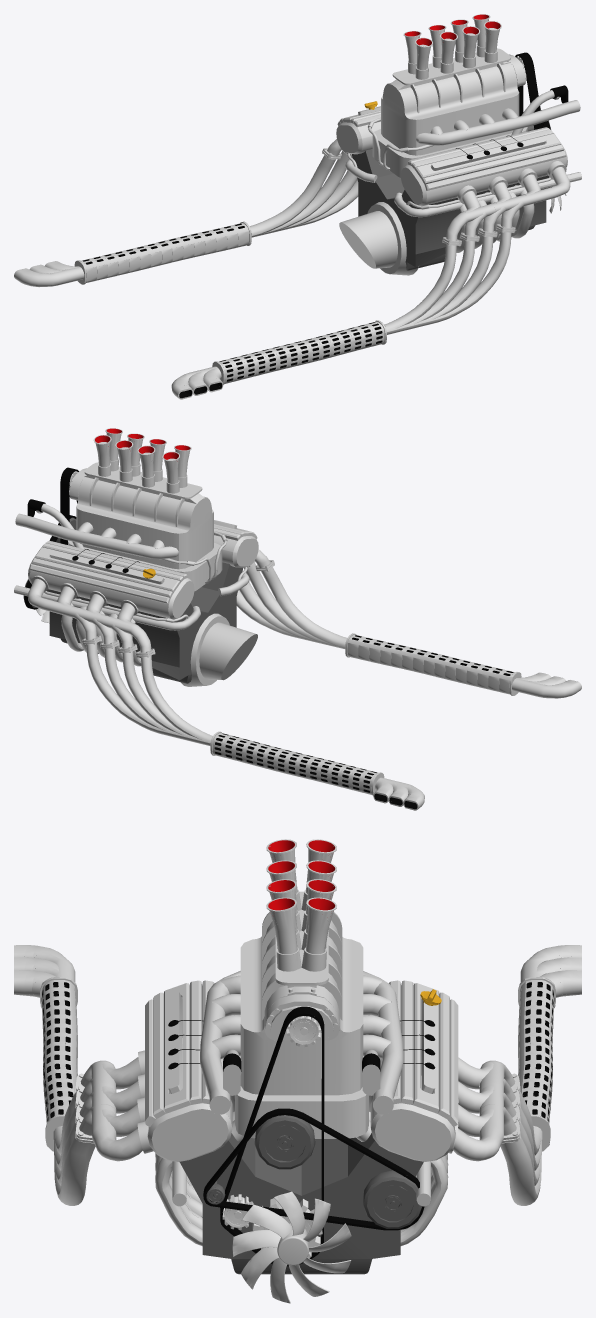
The model's file is eng-v8-57-sb.glb.
3 views of the same model, one above another, from view 1: azimuth 30°, elevation 25°; view 2: azimuth 150°, elevation 25°; view 3: azimuth 270°, elevation 25° (orthographic). The views are drawn at different scales.
Visible parts, largest first — view 1: Cube_Chrome.001_0, Cylinder.003_Chrome.001_0, Cube.001_Chrome.001_0, Cylinder.004_Chrome.001_0, Cube_Material.004_0, Cylinder.004_Material.008_0, Cube.001_Material.003_0, Cube_Material.005_0, Cylinder.008_Chrome.001_0; view 2: Cube_Chrome.001_0, Cylinder.003_Chrome.001_0, Cube.001_Chrome.001_0, Cylinder.004_Chrome.001_0, Cube_Material.004_0, Cylinder.004_Material.008_0, Cube.001_Material.003_0, Cube_Material.005_0, Cylinder.008_Chrome.001_0; view 3: Cube_Chrome.001_0, Cylinder.003_Chrome.001_0, Cube.001_Chrome.001_0, Cube_Material.004_0, Cylinder.004_Chrome.001_0, Fan.004_Chrome.001_0, Cylinder.006_Material.004_0, Cube.001_Material.003_0, Cylinder.004_Material.008_0, Cube_Material.005_0, Gear_Material.007_0, Cube_Material.003_0 (+1 smaller).
Boxes of the visible parts, x1=… form: Cube_Chrome.001_0: x1=336, y1=14, x2=581, y2=252; Cylinder.003_Chrome.001_0: x1=14, y1=139, x2=570, y2=399; Cube.001_Chrome.001_0: x1=339, y1=48, x2=527, y2=275; Cylinder.004_Chrome.001_0: x1=74, y1=221, x2=386, y2=384; Cube_Material.004_0: x1=352, y1=149, x2=549, y2=270; Cylinder.004_Material.008_0: x1=83, y1=223, x2=382, y2=381; Cube.001_Material.003_0: x1=515, y1=52, x2=551, y2=187; Cube_Material.005_0: x1=404, y1=14, x2=500, y2=45; Cylinder.008_Chrome.001_0: x1=322, y1=148, x2=515, y2=246; Cube_Chrome.001_0: x1=14, y1=428, x2=258, y2=666; Cylinder.003_Chrome.001_0: x1=28, y1=549, x2=581, y2=810; Cube.001_Chrome.001_0: x1=68, y1=462, x2=257, y2=686; Cylinder.004_Chrome.001_0: x1=210, y1=633, x2=521, y2=795; Cube_Material.004_0: x1=46, y1=562, x2=242, y2=683; Cylinder.004_Material.008_0: x1=214, y1=635, x2=513, y2=792; Cube.001_Material.003_0: x1=24, y1=467, x2=78, y2=609; Cube_Material.005_0: x1=95, y1=428, x2=190, y2=461; Cylinder.008_Chrome.001_0: x1=82, y1=560, x2=274, y2=657; Cube_Chrome.001_0: x1=145, y1=839, x2=458, y2=1246; Cylinder.003_Chrome.001_0: x1=14, y1=945, x2=581, y2=1205; Cube.001_Chrome.001_0: x1=235, y1=891, x2=368, y2=1138; Cube_Material.004_0: x1=179, y1=1133, x2=423, y2=1274; Cylinder.004_Chrome.001_0: x1=40, y1=977, x2=555, y2=1151; Fan.004_Chrome.001_0: x1=232, y1=1191, x2=351, y2=1303; Cylinder.006_Material.004_0: x1=206, y1=1115, x2=422, y2=1228; Cube.001_Material.003_0: x1=203, y1=1006, x2=424, y2=1266; Cylinder.004_Material.008_0: x1=41, y1=982, x2=554, y2=1121; Cube_Material.005_0: x1=268, y1=840, x2=335, y2=910; Gear_Material.007_0: x1=222, y1=1016, x2=322, y2=1258; Cube_Material.003_0: x1=168, y1=1020, x2=435, y2=1071.
Size of the model in its own units: 1.45 by 0.6954 by 0.8993.
